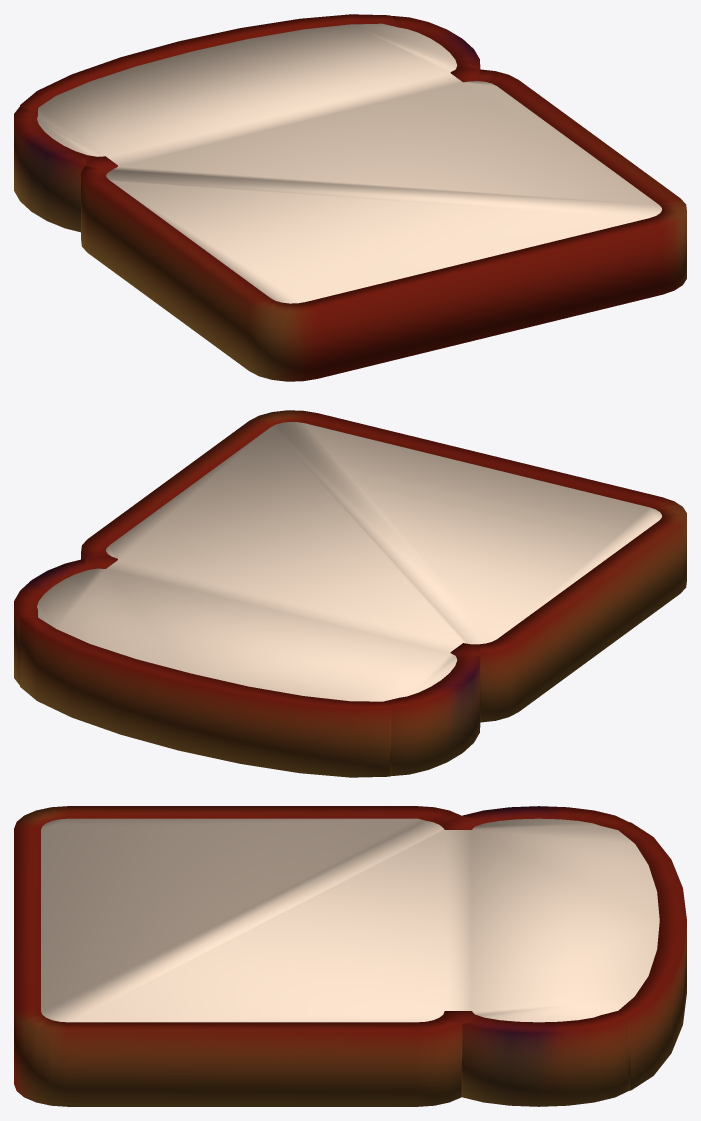
File: toast2.fbx
The picture shows the model from 3 angles, top to bottom: view 1: azimuth 30°, elevation 25°; view 2: azimuth 150°, elevation 25°; view 3: azimuth 270°, elevation 25°; orthographic projection. The views are drawn at different scales.
Parts seen in each view (by area): view 1: obj_0, obj_0.001; view 2: obj_0, obj_0.001; view 3: obj_0, obj_0.001.
Boxes of the visible parts, x1,y1,x2,y2 form: obj_0: [37, 23, 661, 303]; obj_0.001: [14, 14, 686, 381]; obj_0: [37, 422, 661, 701]; obj_0.001: [14, 410, 686, 777]; obj_0: [41, 818, 659, 1022]; obj_0.001: [14, 806, 686, 1106].
Size of the model in its own units: 400 by 60.4 by 500.
